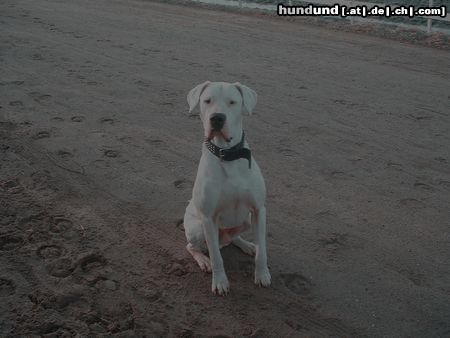dogo_argentino: (181, 79, 270, 294)
